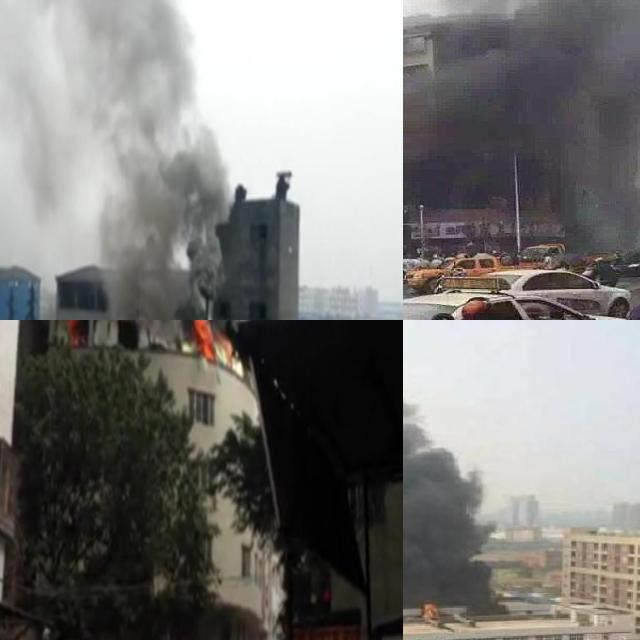fire: (191, 320, 234, 364), (419, 600, 439, 621), (65, 320, 83, 342)
smoke: (0, 0, 227, 320), (403, 0, 640, 248), (403, 320, 493, 612)
